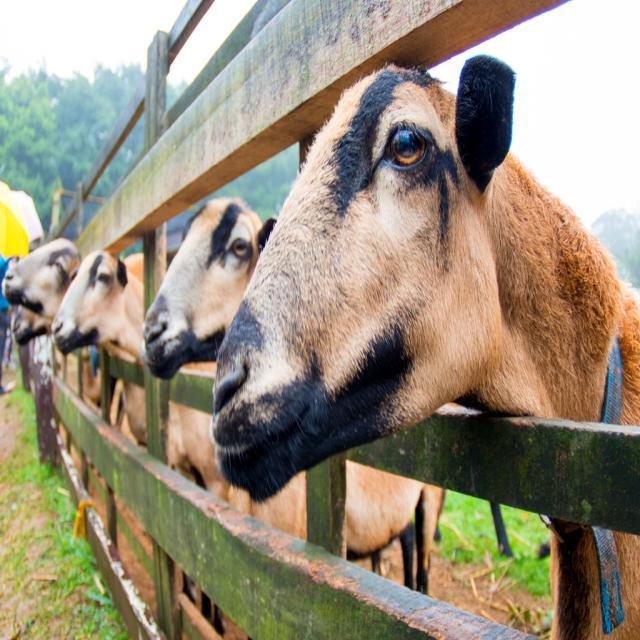Goat: (208, 54, 639, 638), (51, 243, 446, 631)
